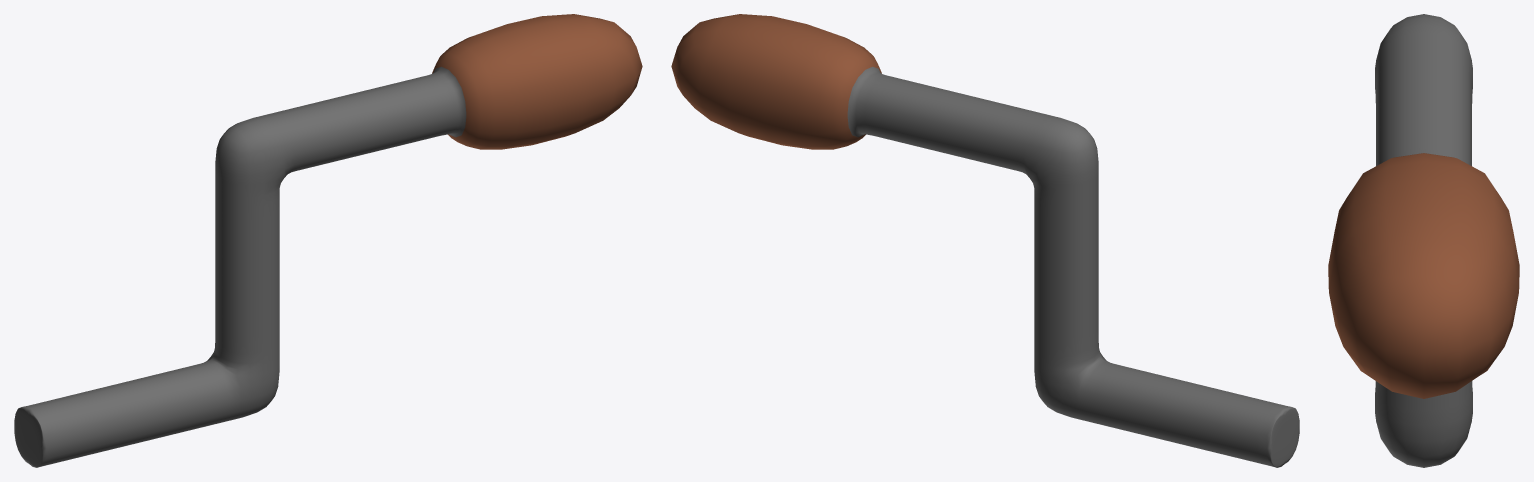
The model's file is JIB Crank.fbx.
3 views of the same model, side by side, from view 1: azimuth 30°, elevation 25°; view 2: azimuth 150°, elevation 25°; view 3: azimuth 270°, elevation 25° (orthographic). The views are drawn at different scales.
Parts seen in each view (by area): view 1: polySurface411; view 2: polySurface411; view 3: polySurface411.
Part boxes in pixels (bbox=[...]): polySurface411: bbox=[14, 14, 642, 467]; polySurface411: bbox=[671, 14, 1299, 467]; polySurface411: bbox=[1328, 14, 1519, 467].
Size of the model in its own units: 15.16 by 7.55 by 2.66.
